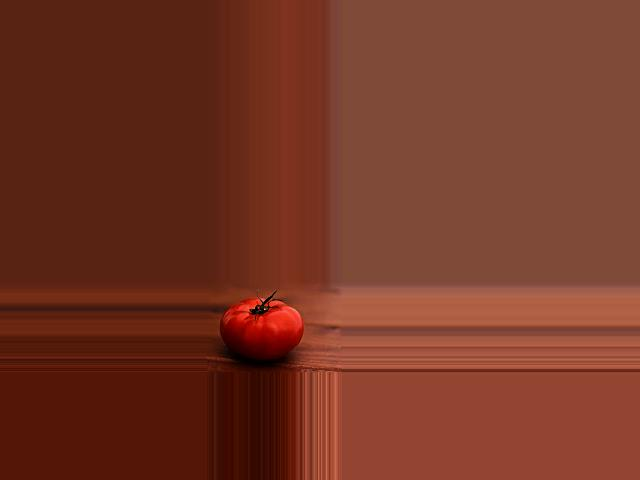tomato: (220, 298, 304, 361)
